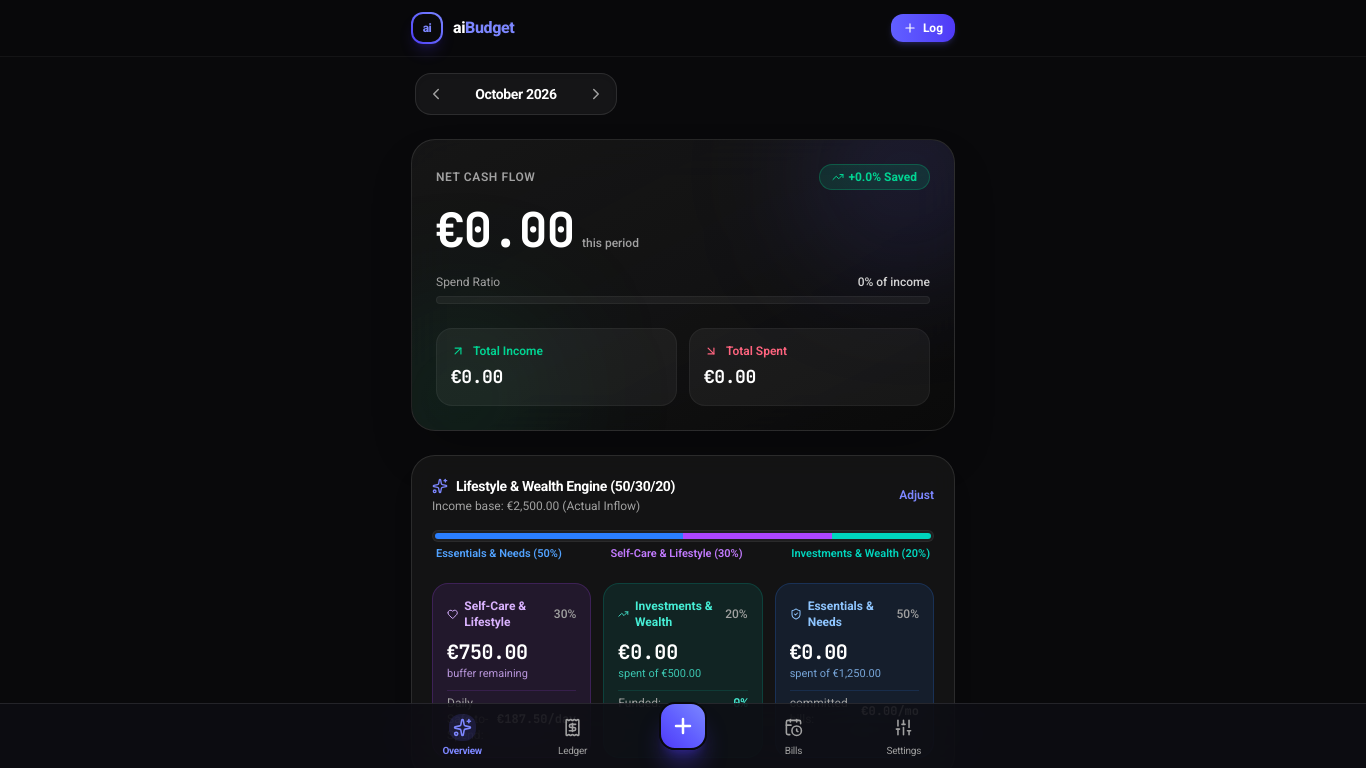
Test: Flow 3: Transaction Lifecycle & Ledger Filtering › closes TransactionModal on Escape key press and backdrop click
Expected: the text "Net Cash Flow" is shown, [436,169,535,185]
# Open and close via Escape key
Click the button "Log" at (923, 28), box [891,14,955,42]
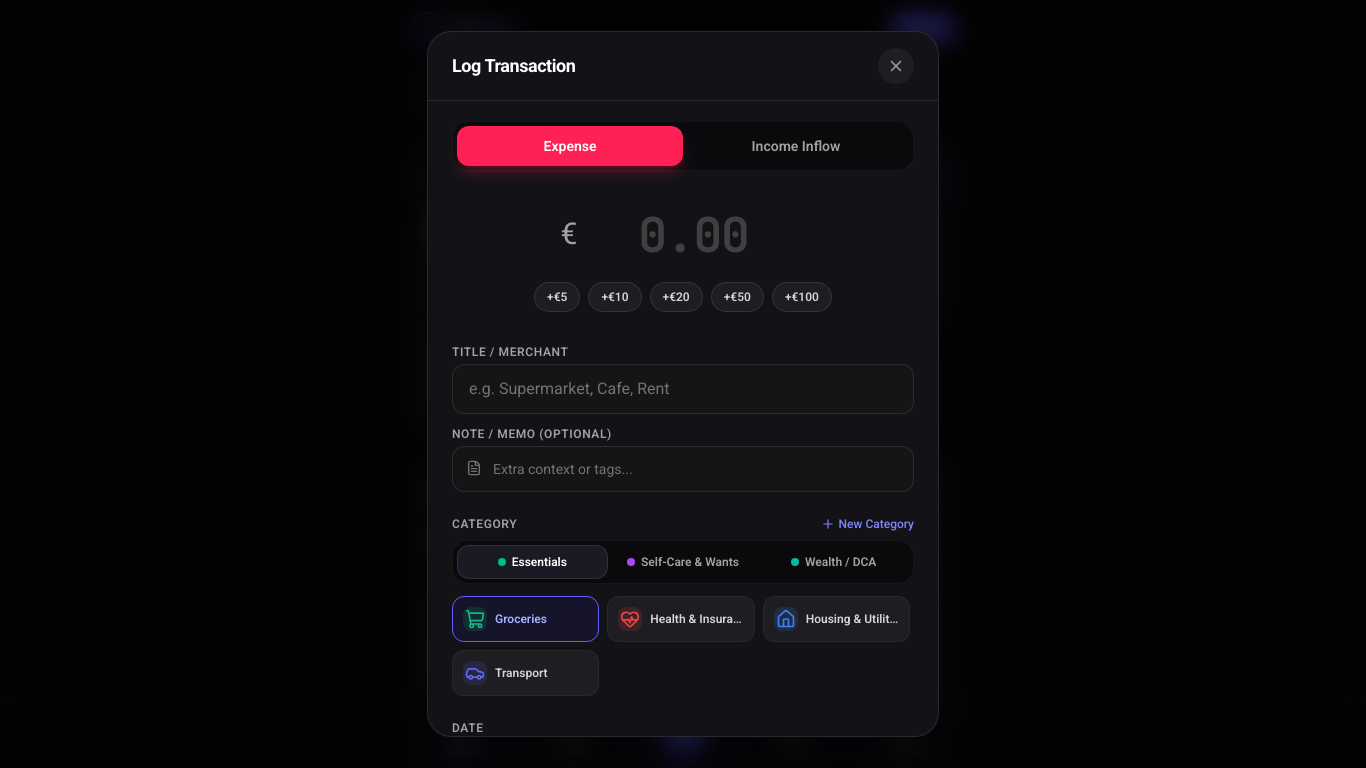
Result: the dialog is shown at [427,31,939,737]
Press Escape
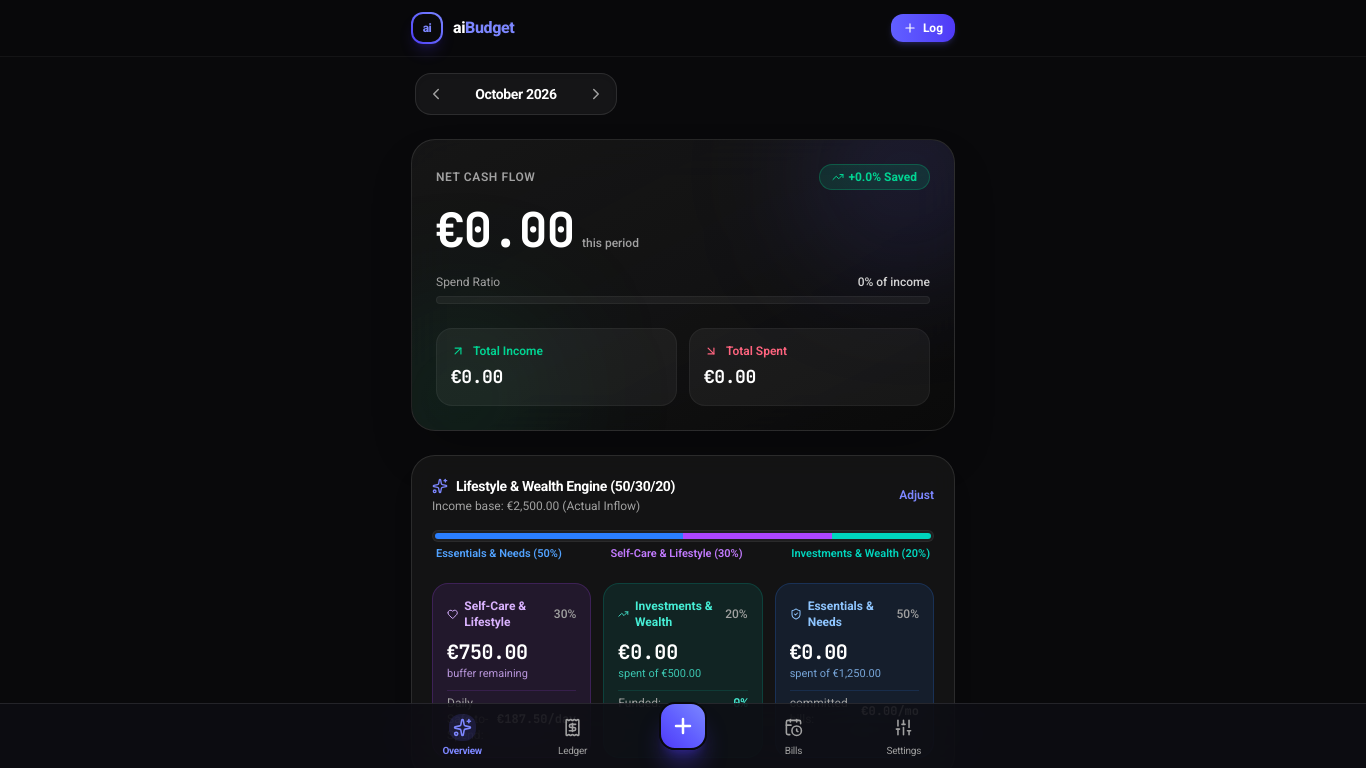
Result: the dialog is gone
# Open and close via backdrop click
Click the button "Log" at (923, 28), box [891,14,955,42]
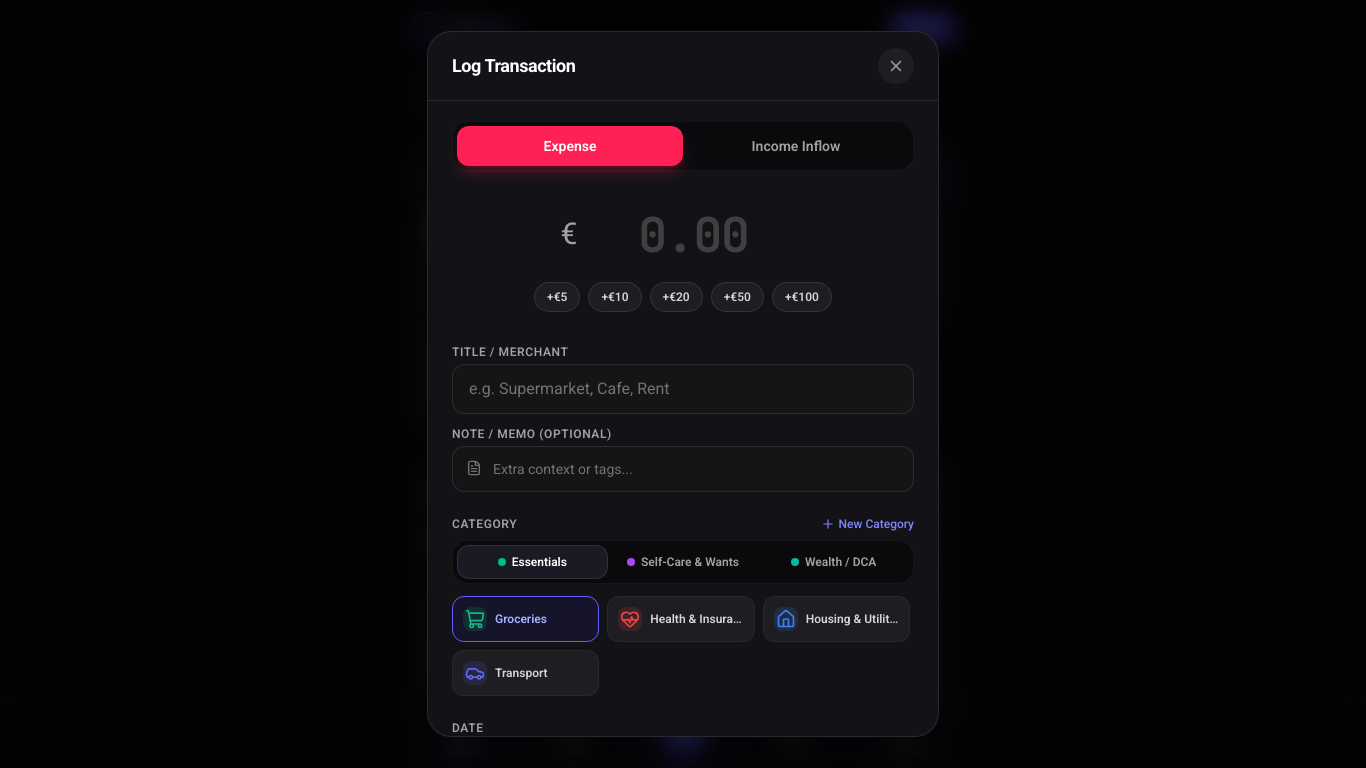
Click the element that starts with "Log Transaction" at (82, 384), box [0,0,1365,767]
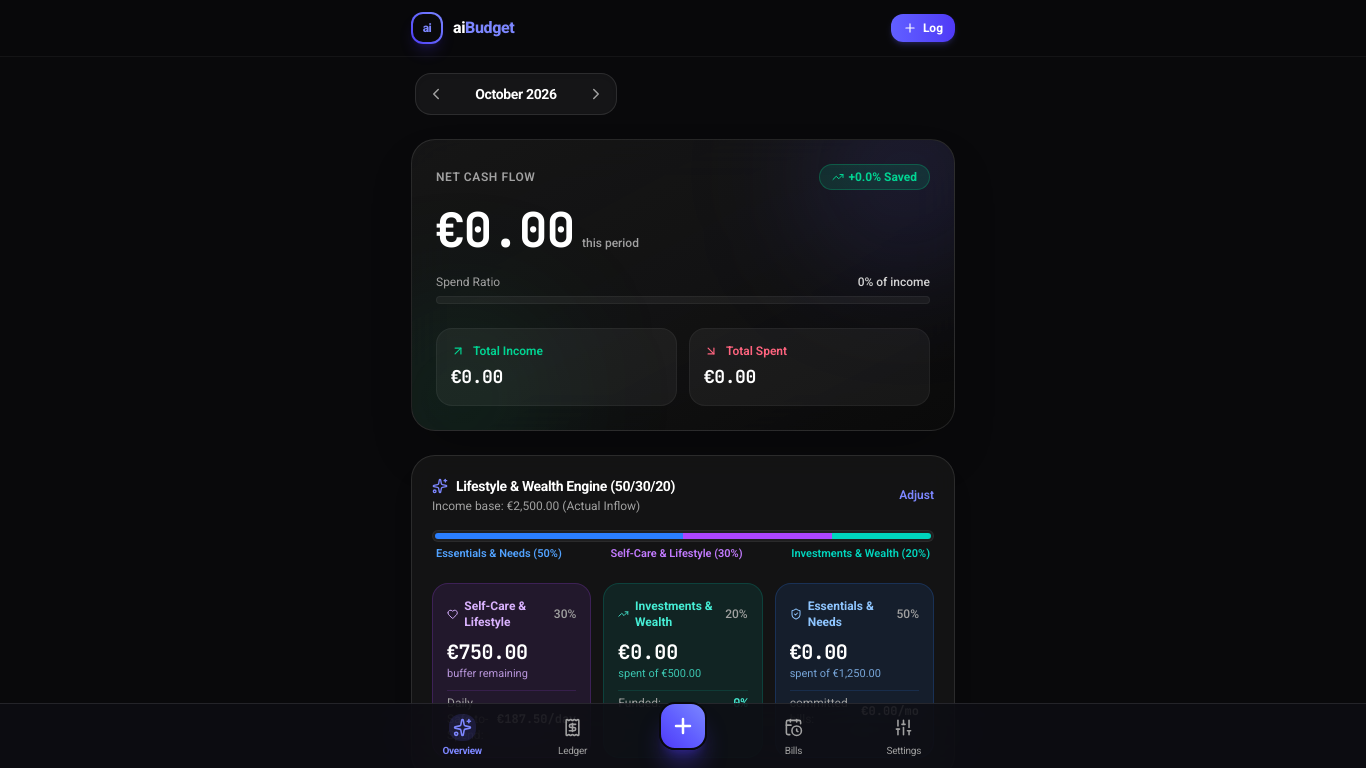
Result: the dialog is gone
